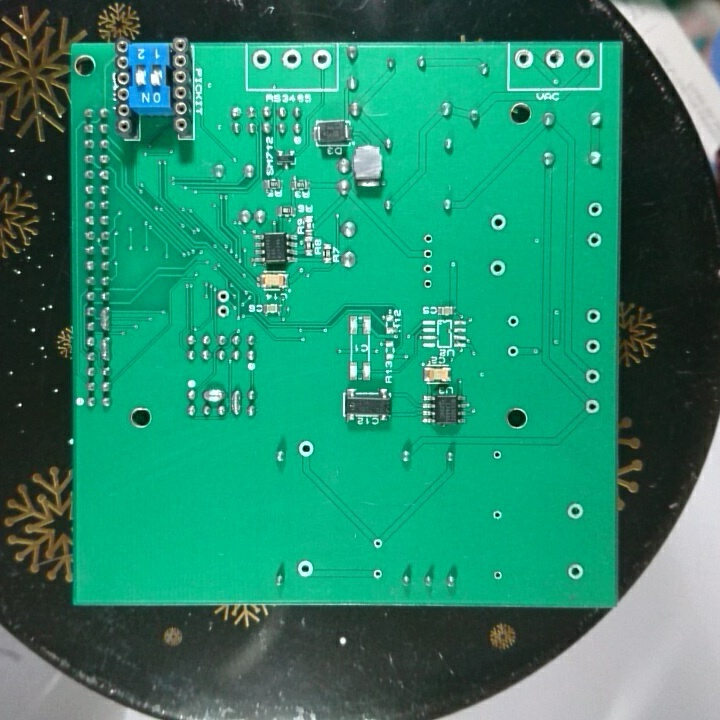F: (542, 46, 568, 74), (511, 45, 535, 73), (279, 46, 304, 72), (251, 48, 274, 75), (573, 46, 596, 72), (310, 48, 334, 72), (564, 500, 588, 523), (294, 438, 316, 462), (487, 212, 509, 236), (487, 255, 508, 280), (565, 560, 587, 583), (582, 365, 603, 388), (584, 229, 605, 252), (582, 395, 602, 418), (585, 197, 605, 220), (296, 556, 315, 580), (583, 306, 604, 327), (583, 337, 602, 358), (503, 312, 522, 331), (488, 506, 506, 526), (504, 342, 522, 362), (417, 259, 436, 277), (214, 287, 233, 305), (214, 303, 232, 321), (419, 230, 436, 247), (370, 565, 385, 584), (370, 535, 385, 554), (418, 277, 437, 292), (490, 445, 504, 465), (419, 246, 436, 262), (491, 568, 504, 583)
P: (97, 304, 114, 335), (97, 335, 114, 364), (199, 386, 226, 404), (229, 387, 242, 417)
